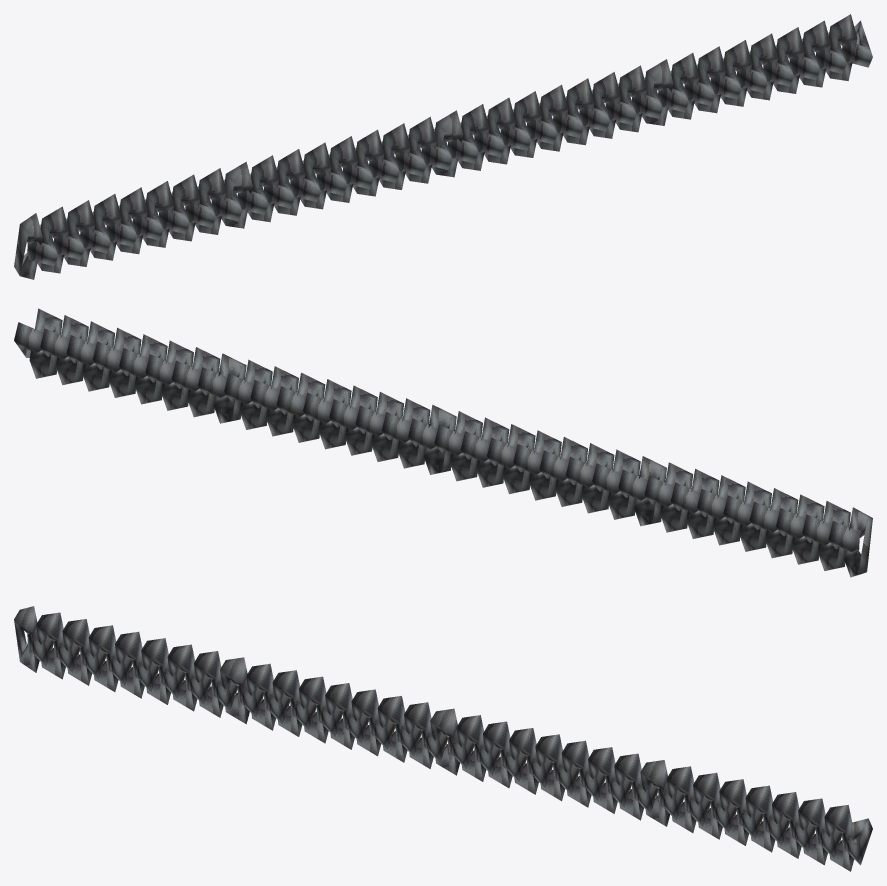
File: Chain.obj
3 renders of one model, top to bottom at view 1: azimuth 30°, elevation 25°; view 2: azimuth 150°, elevation 25°; view 3: azimuth 330°, elevation 25°, orthographic.
Size of the model in its own units: 0.9997 by 0.0778 by 0.0376.
1 material, 1 textured.
